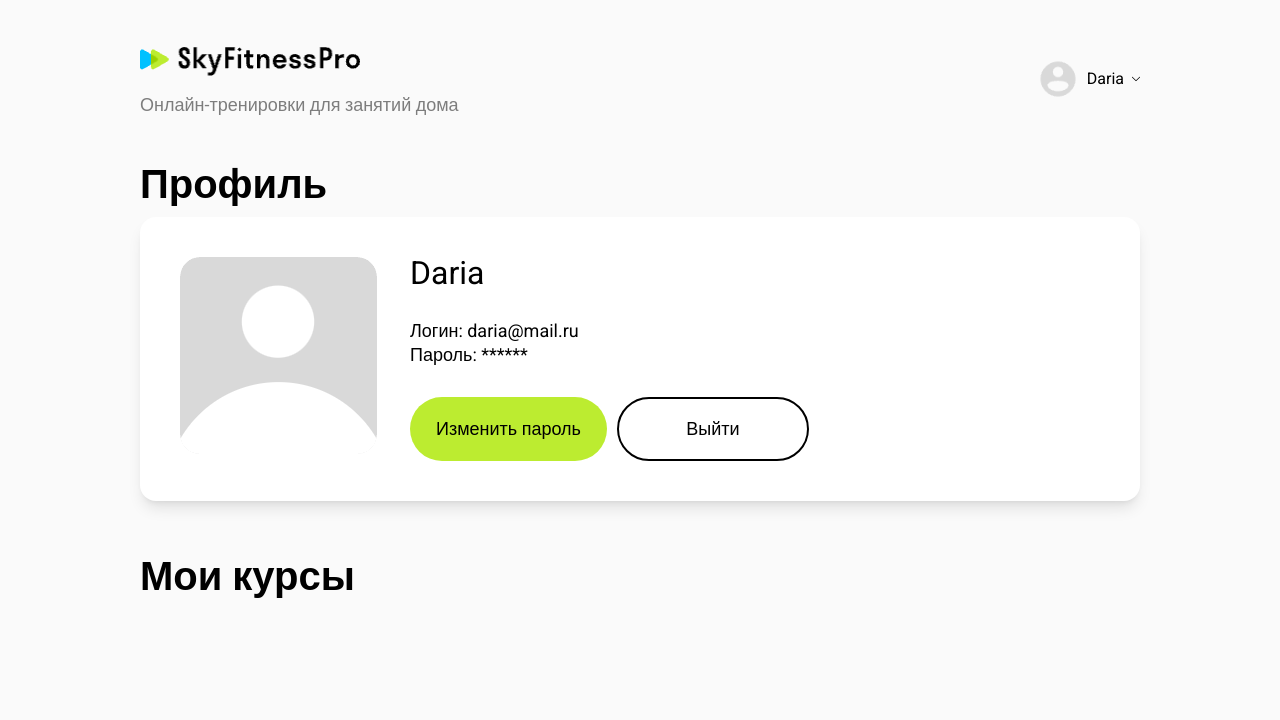
Test case: <Profile/> › should open modal
The image size is (1280, 720).
Click the button with test id "modalChangeButton".
click(508, 429)  # box 410,397 -> 607,461
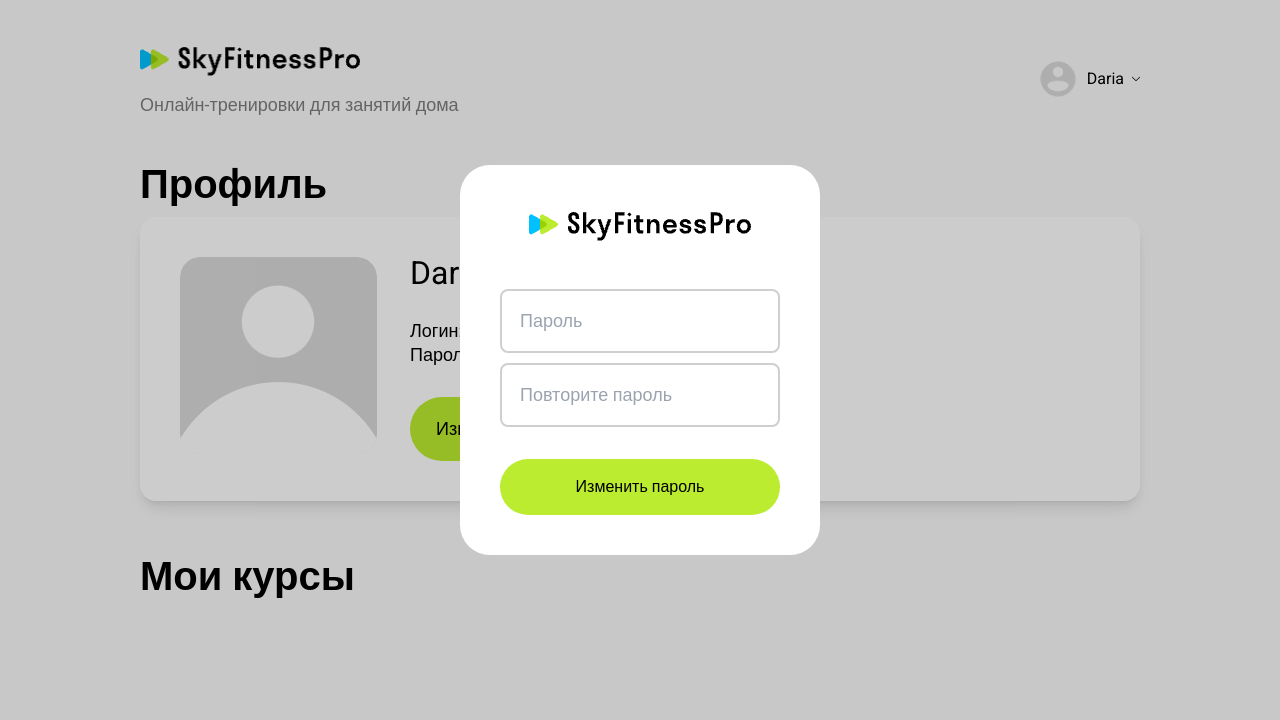
Expected: the element with test id "modal" is shown
